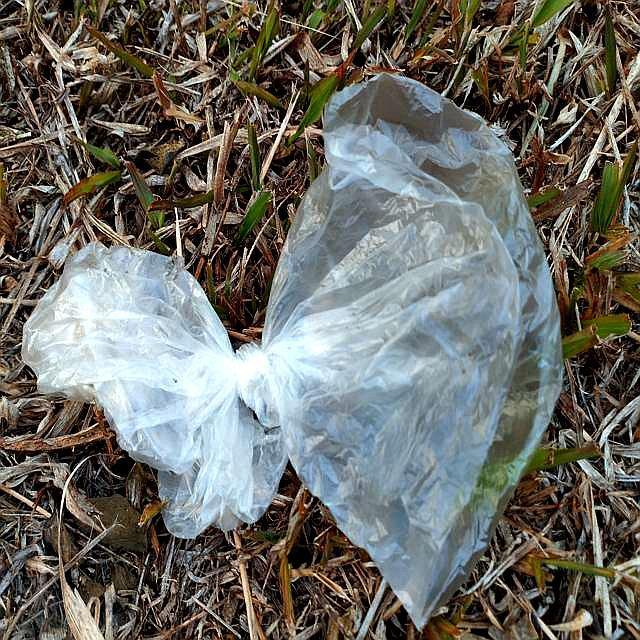Non-biodegradable: (29, 75, 563, 633)
